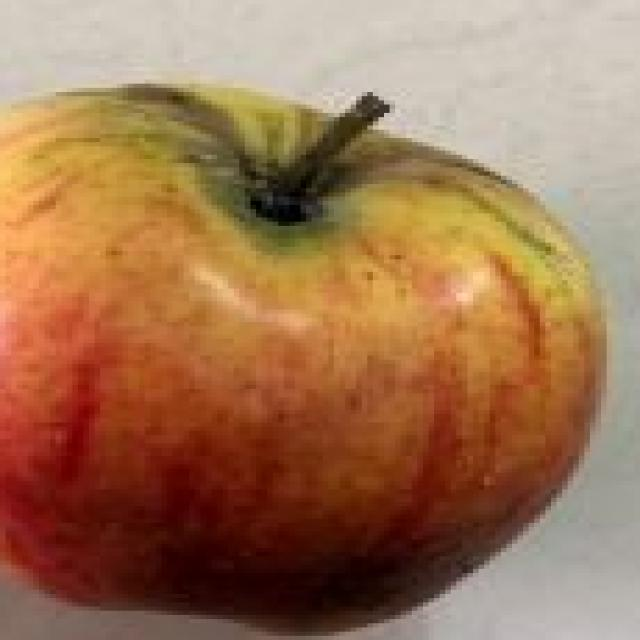Bad_Apple 0-1 day: (0, 86, 604, 631)
